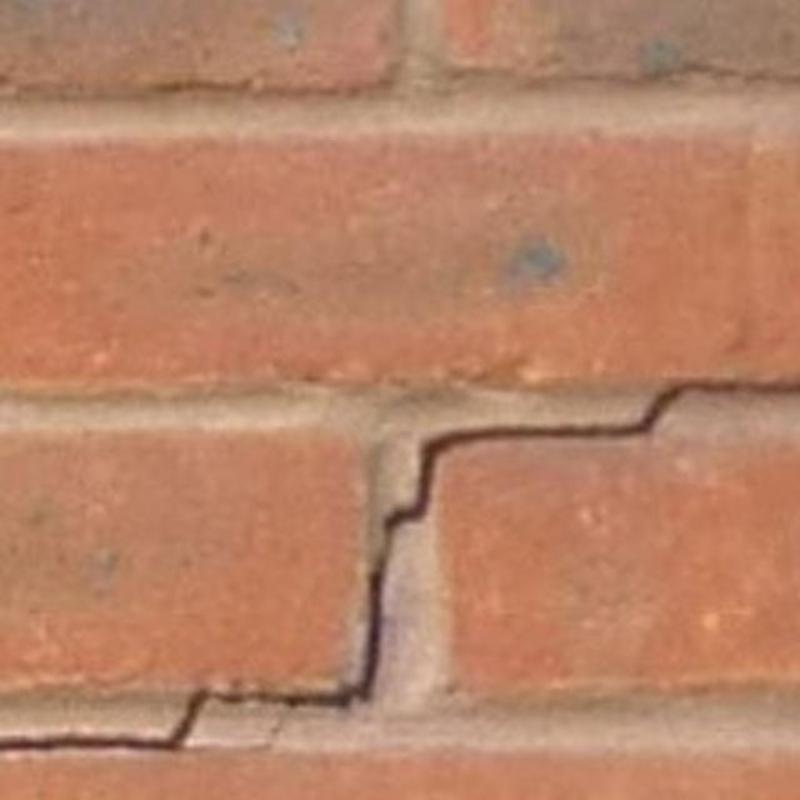pothole: (0, 383, 799, 750)
